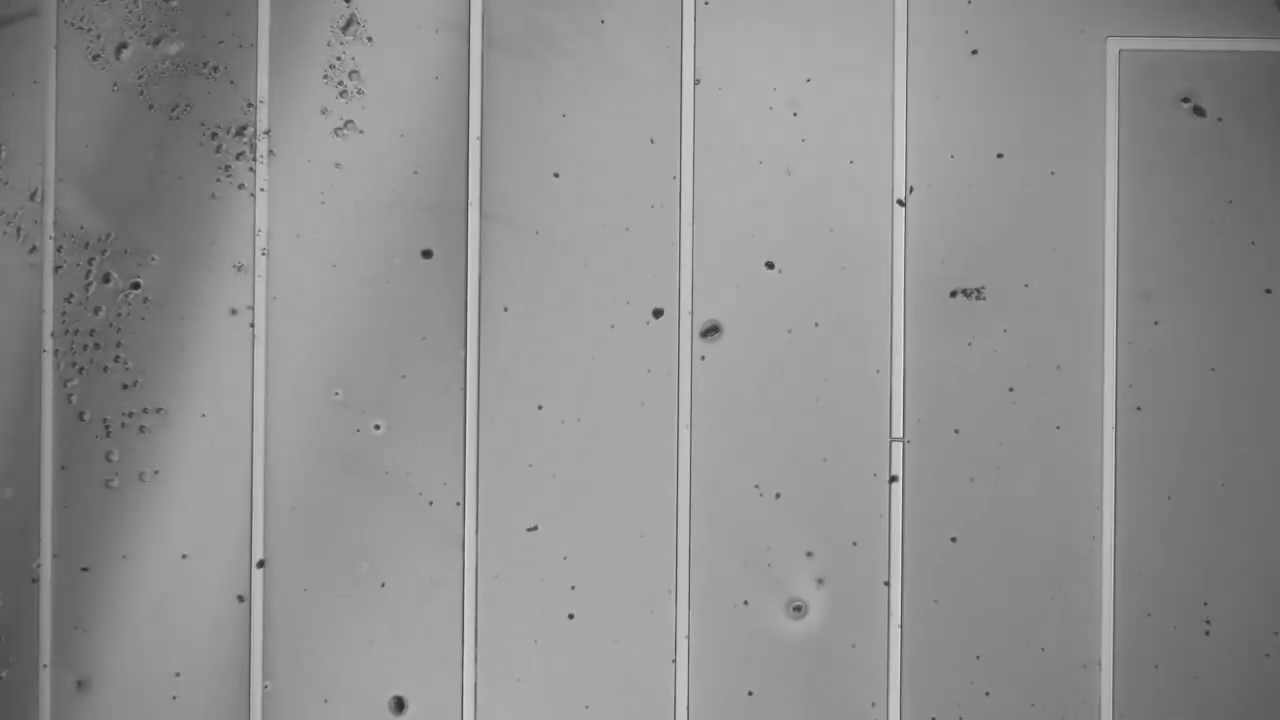open: (880, 427, 913, 448)
stains_enbedded: (242, 545, 276, 581), (881, 462, 911, 489), (885, 190, 913, 212)
